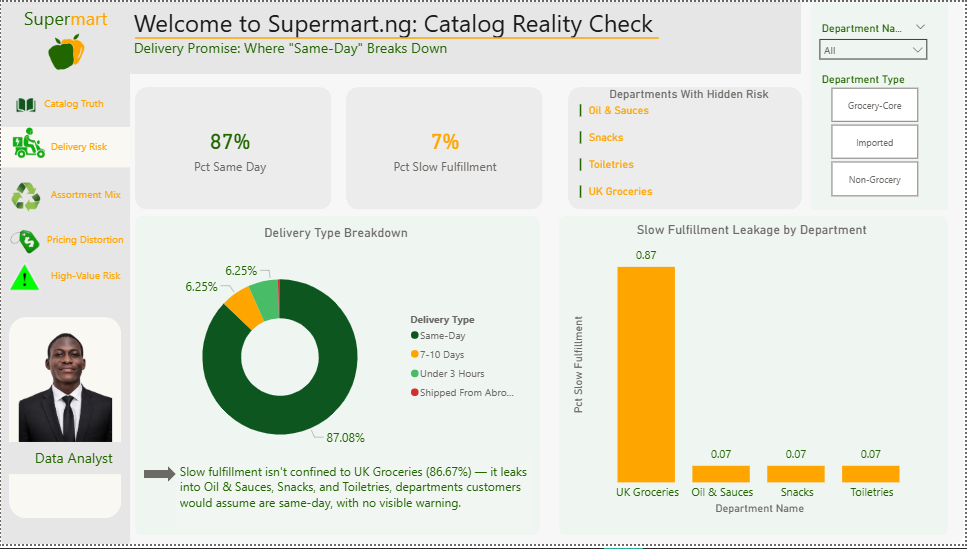

Layout of this report page (visuals, bound fields, positions):
{"tool":"powerbi","page":{"name":"Delivery Risk","canvas":[1280,720],"ordinal":1},"visuals":[{"type":"shape","box":[0,0,1280.2,720],"z":0},{"type":"shape","box":[1075.5,1.5,182.2,274.9],"z":0,"group":"g6"},{"type":"actionButton","box":[0,119.5,171.8,50.8],"z":0,"group":"g4"},{"type":"slicer","fields":{"Values":["public dim_department.department_type"]},"box":[1077.2,89.7,164.6,175.6],"z":1000,"group":"g6"},{"type":"shape","box":[177.8,283.8,537.8,424.2],"z":1000},{"type":"slicer","fields":{"Values":["public fact_products.department_name"]},"box":[1077.2,22,163.2,72],"z":2000,"group":"g6"},{"type":"shape","box":[177.8,113.5,261.4,162.8],"z":2000},{"type":"actionButton","box":[0,242,171.8,50.8],"z":2000,"group":"g4"},{"type":"shape","box":[0,0,171.8,720],"z":3000},{"type":"actionButton","box":[0,292.8,171.8,50.8],"z":3000,"group":"g4"},{"type":"shape","box":[458.6,113.5,261.4,162.8],"z":4000},{"type":"actionButton","box":[0,349.5,171.8,50.8],"z":4000,"group":"g4"},{"type":"shape","box":[171.8,0,891.8,95.6],"z":5000},{"type":"shape","box":[752.9,113.5,310.7,162.8],"z":6000},{"type":"textbox","box":[171.8,0,891.8,95.6],"z":7000},{"type":"image","box":[43.3,31.4,86.6,64.2],"z":8000},{"type":"textbox","box":[0,0,171.8,50.8],"z":9000},{"type":"shape","box":[177.8,0,696.1,95.6],"z":10000},{"type":"shape","box":[0,166.5,171.8,53.8],"z":10000,"group":"g2"},{"type":"card","fields":{"Values":["public dim_department.Pct Same Day"]},"box":[177.8,113.5,252.4,162.8],"z":11000},{"type":"image","box":[14.9,164.3,44.8,48],"z":11000,"group":"g2"},{"type":"card","fields":{"Values":["public fact_products.Pct Slow Fulfillment"]},"box":[463.1,113.5,252.4,162.8],"z":12000},{"type":"textbox","box":[44.8,121,127,34.4],"z":12000,"group":"g3"},{"type":"multiRowCard","title":"Departments With Hidden Risk","fields":{"Values":["public dim_department.department_name"]},"box":[763.3,113.5,300.2,173.3],"z":13000},{"type":"textbox","box":[61.2,177.8,110.5,34.4],"z":13000,"group":"g3"},{"type":"image","box":[12,236,43.3,47.8],"z":13000,"group":"g2"},{"type":"group","id":"g1","title":"Group 2","box":[0,113.5,171.8,278],"z":14000},{"type":"textbox","box":[61.2,242,110.5,34.4],"z":14000,"group":"g3"},{"type":"image","box":[10.5,295.7,44,48],"z":14000,"group":"g2"},{"type":"group","id":"g2","title":"Group 3","box":[0,113.5,171.8,278],"z":14003,"group":"g1"},{"type":"group","id":"g3","title":"Group 4","box":[44.8,121,132.9,262.9],"z":15000},{"type":"textbox","box":[55.3,301.7,116.5,34.4],"z":15000,"group":"g3"},{"type":"group","id":"g4","title":"Group 5","box":[0,119.5,171.8,280.8],"z":16000},{"type":"image","box":[10.5,343.5,44,48],"z":16000,"group":"g2"},{"type":"textbox","box":[61.2,349.5,116.5,34.4],"z":16000,"group":"g3"},{"type":"image","box":[10.5,113.5,44.8,48],"z":16500,"group":"g2"},{"type":"group","id":"g5","title":"Group 6","box":[10.5,418.3,149.4,267.4],"z":17000},{"type":"group","id":"g6","title":"Group 7","box":[1075.5,1.5,182.2,274.9],"z":18000},{"type":"donutChart","title":"Delivery Type Breakdown","fields":{"Category":["public fact_products.delivery_flag"],"Y":["CountNonNull(public fact_products.delivery_flag)"]},"box":[192.7,295.8,504.9,331.6],"z":19000},{"type":"shape","box":[10.5,418.3,149.4,267.4],"z":19000,"group":"g5"},{"type":"shape","box":[740.9,283.8,516.8,424.2],"z":20000},{"type":"shape","box":[10.5,584.1,149.4,43.3],"z":20000,"group":"g5"},{"type":"clusteredColumnChart","title":"Slow Fulfillment Leakage by Department","fields":{"Category":["public fact_products.department_name"],"Y":["public fact_products.Pct Slow Fulfillment"]},"box":[752.9,292.8,488.5,392.9],"z":21000},{"type":"image","box":[10.5,418.3,149.4,165.8],"z":21000,"group":"g5"},{"type":"textbox","box":[32.9,587.1,127,38.8],"z":22000,"group":"g5"},{"type":"textbox","box":[233,606.5,473.5,94.1],"z":22000},{"type":"shape","box":[190,616.4,42.5,21.3],"z":23000}]}

Visuals, with their boxes in screenshot pixels (x1, y1, x2, y2), scaled from the page's 1280x720 canvas onto the 967x549 screenshot:
shape: select_region(0, 0, 966, 548)
shape: select_region(813, 1, 950, 211)
actionButton: select_region(0, 91, 130, 130)
slicer - public dim_department.department_type: select_region(814, 68, 938, 202)
shape: select_region(134, 216, 541, 540)
slicer - public fact_products.department_name: select_region(814, 17, 937, 72)
shape: select_region(134, 87, 332, 211)
actionButton: select_region(0, 185, 130, 223)
shape: select_region(0, 0, 130, 548)
actionButton: select_region(0, 223, 130, 262)
shape: select_region(346, 87, 544, 211)
actionButton: select_region(0, 266, 130, 305)
shape: select_region(130, 0, 804, 73)
shape: select_region(569, 87, 804, 211)
textbox: select_region(130, 0, 804, 73)
image: select_region(33, 24, 98, 73)
textbox: select_region(0, 0, 130, 39)
shape: select_region(134, 0, 660, 73)
shape: select_region(0, 127, 130, 168)
card - public dim_department.Pct Same Day: select_region(134, 87, 325, 211)
image: select_region(11, 125, 45, 162)
card - public fact_products.Pct Slow Fulfillment: select_region(350, 87, 541, 211)
textbox: select_region(34, 92, 130, 118)
"Departments With Hidden Risk" multiRowCard: select_region(577, 87, 803, 219)
textbox: select_region(46, 136, 130, 162)
image: select_region(9, 180, 42, 216)
"Group 2" group: select_region(0, 87, 130, 299)
textbox: select_region(46, 185, 130, 211)
image: select_region(8, 225, 41, 262)
"Group 3" group: select_region(0, 87, 130, 299)
"Group 4" group: select_region(34, 92, 134, 293)
textbox: select_region(42, 230, 130, 256)
"Group 5" group: select_region(0, 91, 130, 305)
image: select_region(8, 262, 41, 299)
textbox: select_region(46, 266, 134, 293)
image: select_region(8, 87, 42, 123)
"Group 6" group: select_region(8, 319, 121, 523)
"Group 7" group: select_region(813, 1, 950, 211)
"Delivery Type Breakdown" donutChart: select_region(146, 226, 527, 478)
shape: select_region(8, 319, 121, 523)
shape: select_region(560, 216, 950, 540)
shape: select_region(8, 445, 121, 478)
"Slow Fulfillment Leakage by Department" clusteredColumnChart: select_region(569, 223, 938, 523)
image: select_region(8, 319, 121, 445)
textbox: select_region(25, 448, 121, 477)
textbox: select_region(176, 462, 534, 534)
shape: select_region(144, 470, 176, 486)
